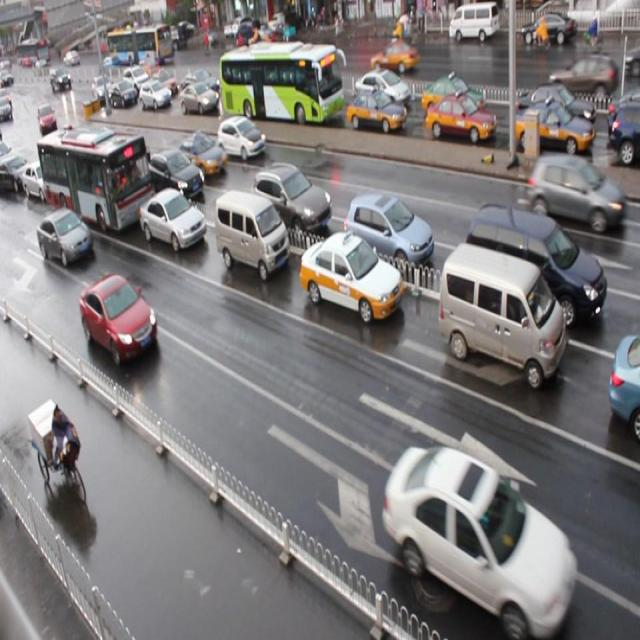car: (386, 440, 574, 624), (298, 228, 402, 322), (529, 151, 621, 235), (342, 194, 433, 278), (79, 273, 159, 368), (251, 162, 331, 234), (513, 99, 592, 157), (137, 186, 205, 251), (425, 92, 495, 142), (607, 331, 640, 437), (512, 85, 588, 130), (37, 206, 92, 267), (146, 148, 205, 204), (423, 74, 488, 120), (345, 86, 405, 133), (176, 133, 227, 181), (354, 69, 409, 111), (218, 115, 265, 160), (608, 98, 640, 160), (21, 158, 59, 202), (606, 92, 640, 137), (178, 82, 219, 116), (254, 68, 291, 103), (1, 152, 31, 193), (139, 78, 170, 113), (71, 129, 101, 164), (188, 69, 224, 98), (146, 69, 175, 96), (108, 80, 135, 108), (123, 65, 149, 93)
truck: (437, 240, 564, 388), (465, 200, 605, 330), (212, 187, 288, 279)
van: (36, 126, 154, 234), (216, 43, 340, 123)
